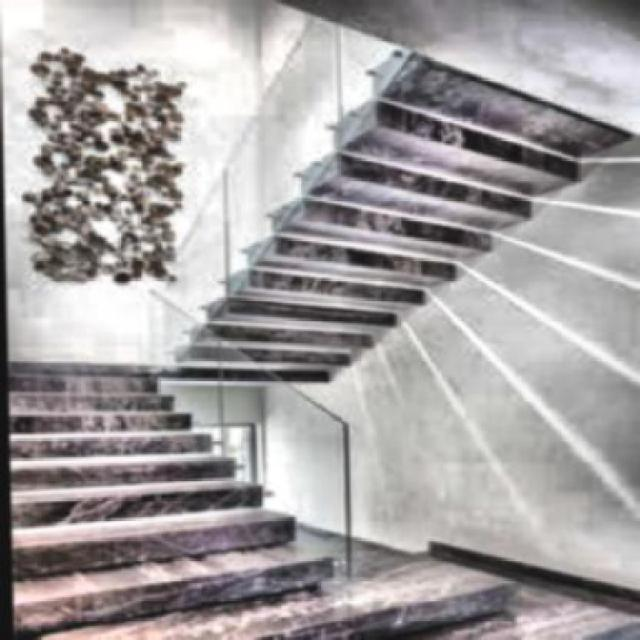stair: (8, 360, 358, 634)
